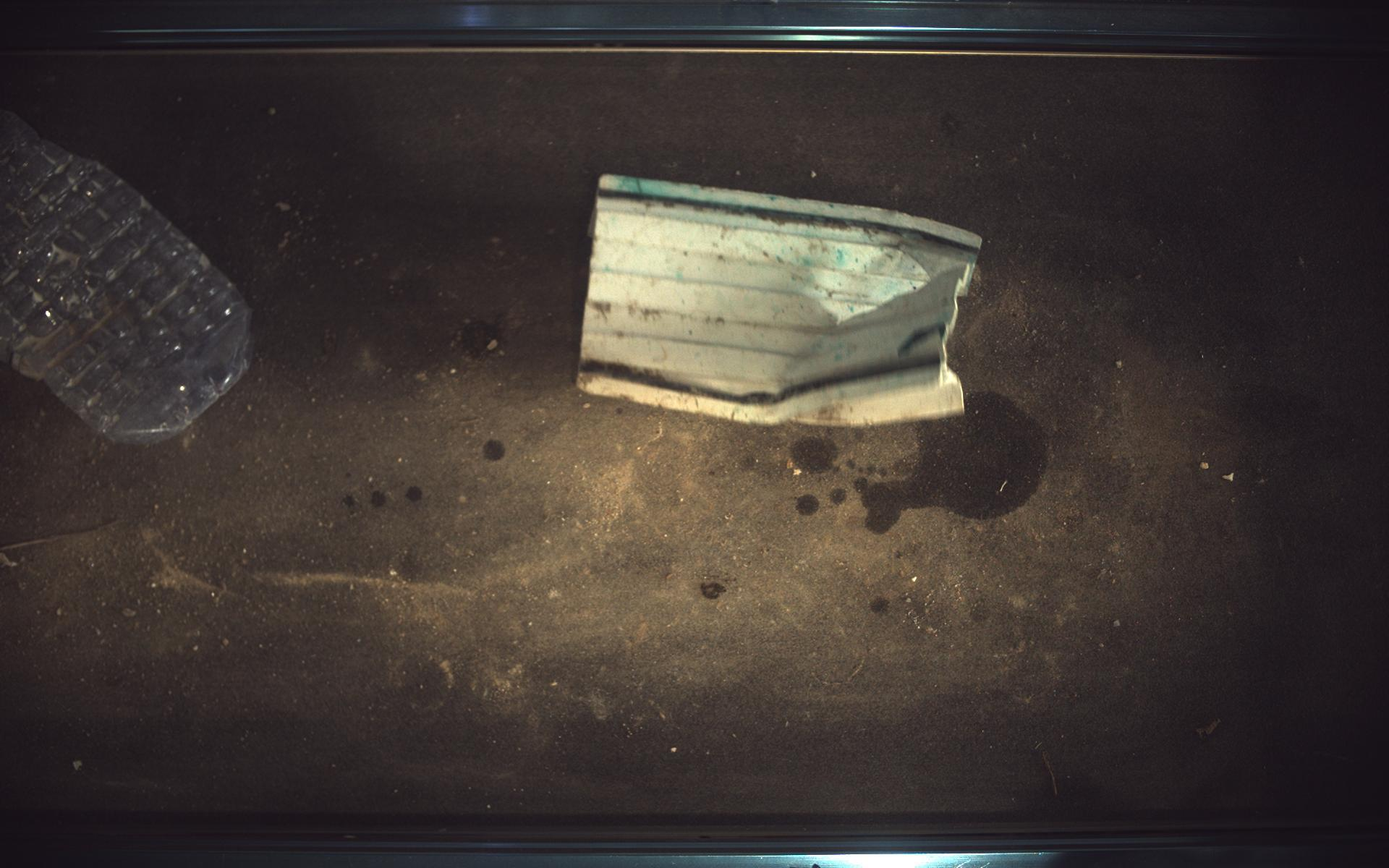plastic: (578, 175, 984, 425)
